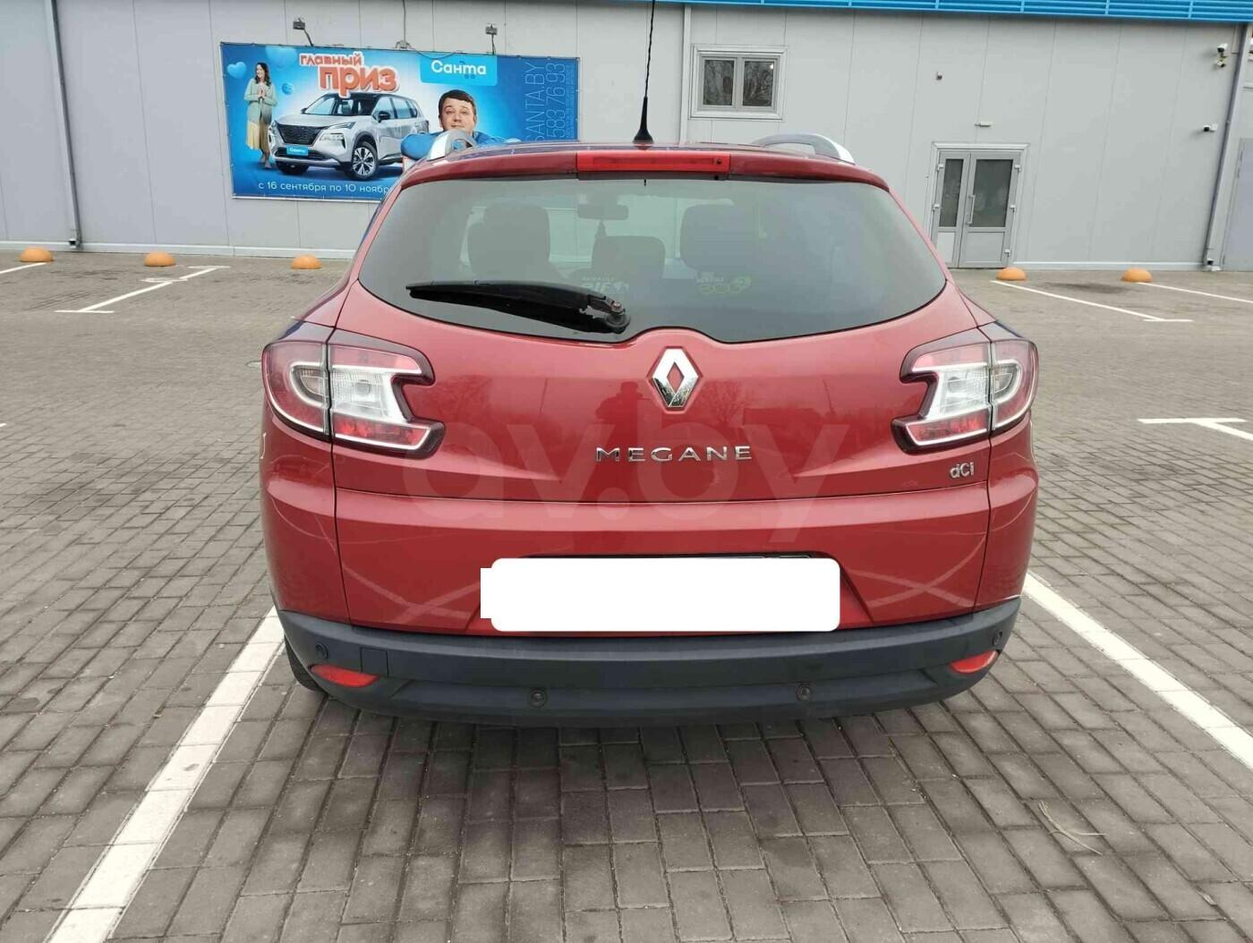Megane_2014-2016: (251, 116, 1059, 734)
